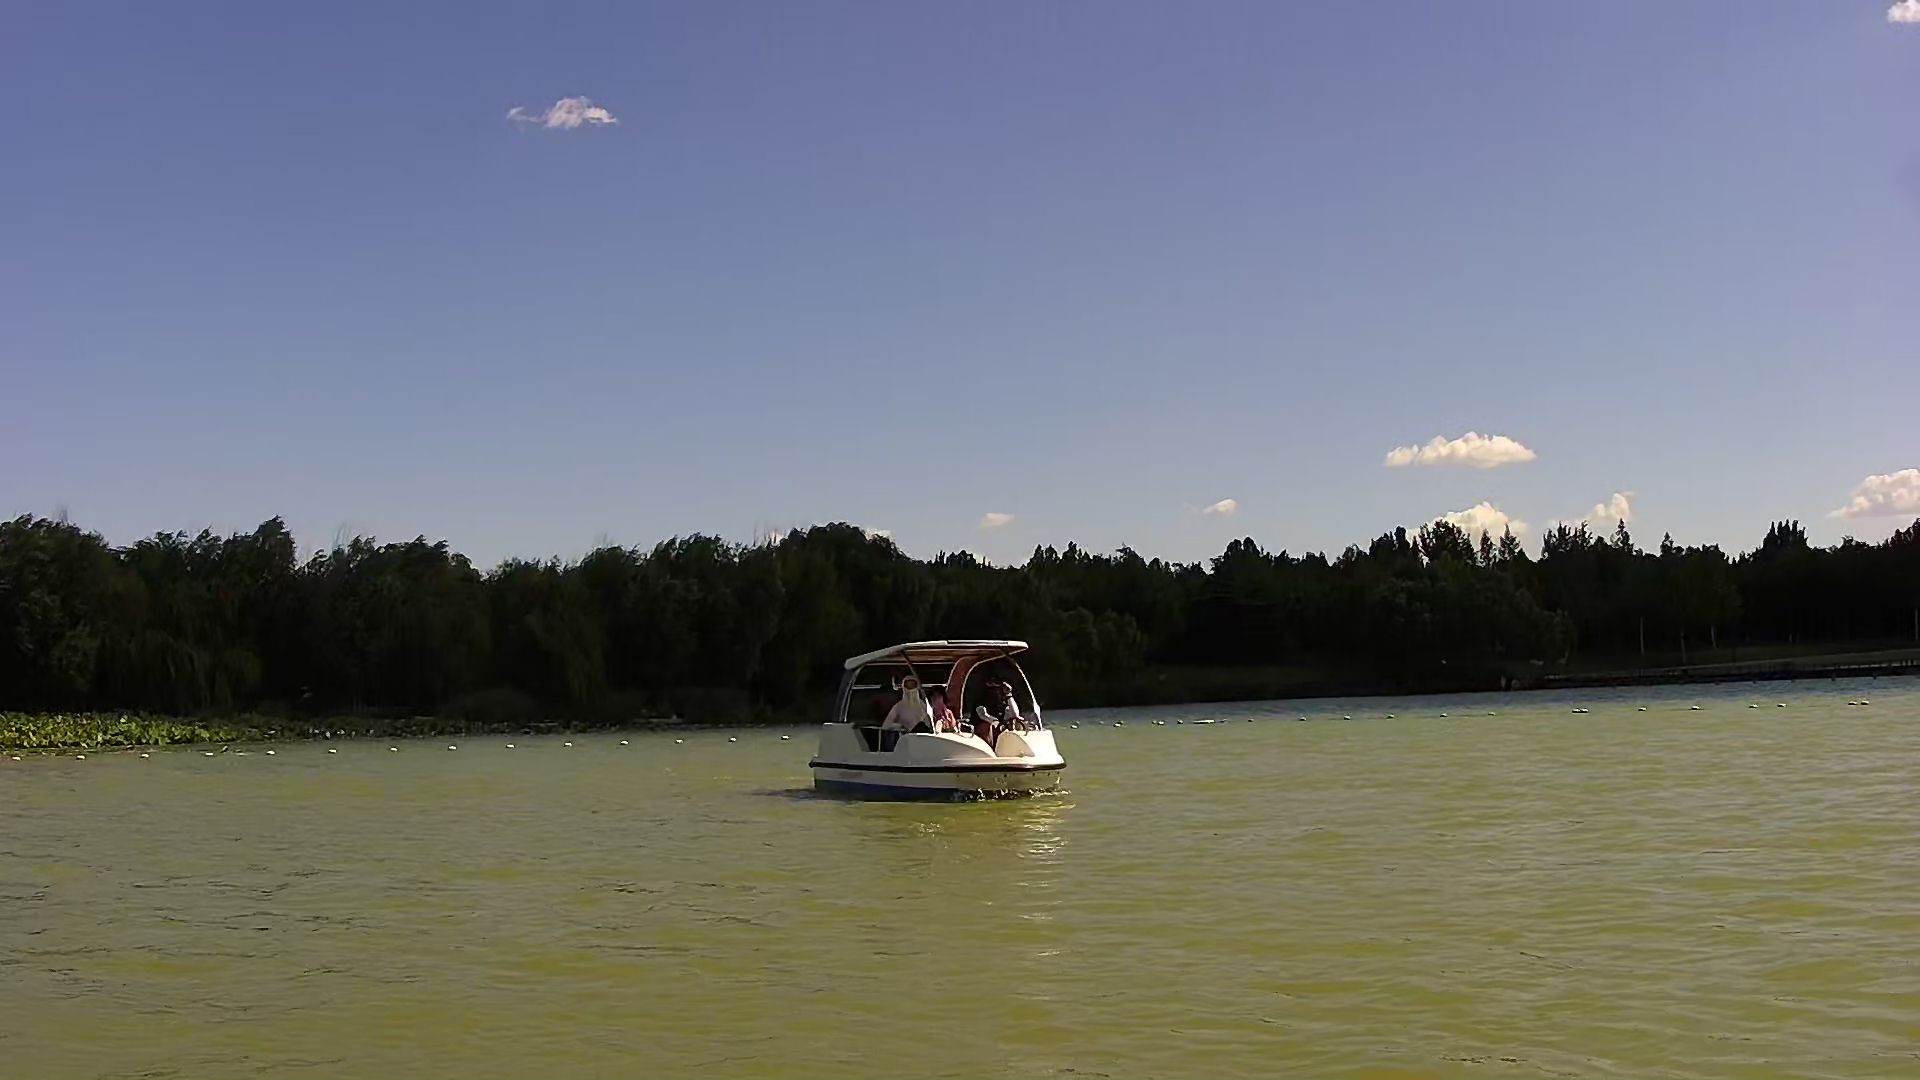boat: (804, 636, 1067, 813)
person: (971, 672, 1033, 737), (880, 673, 937, 739)
